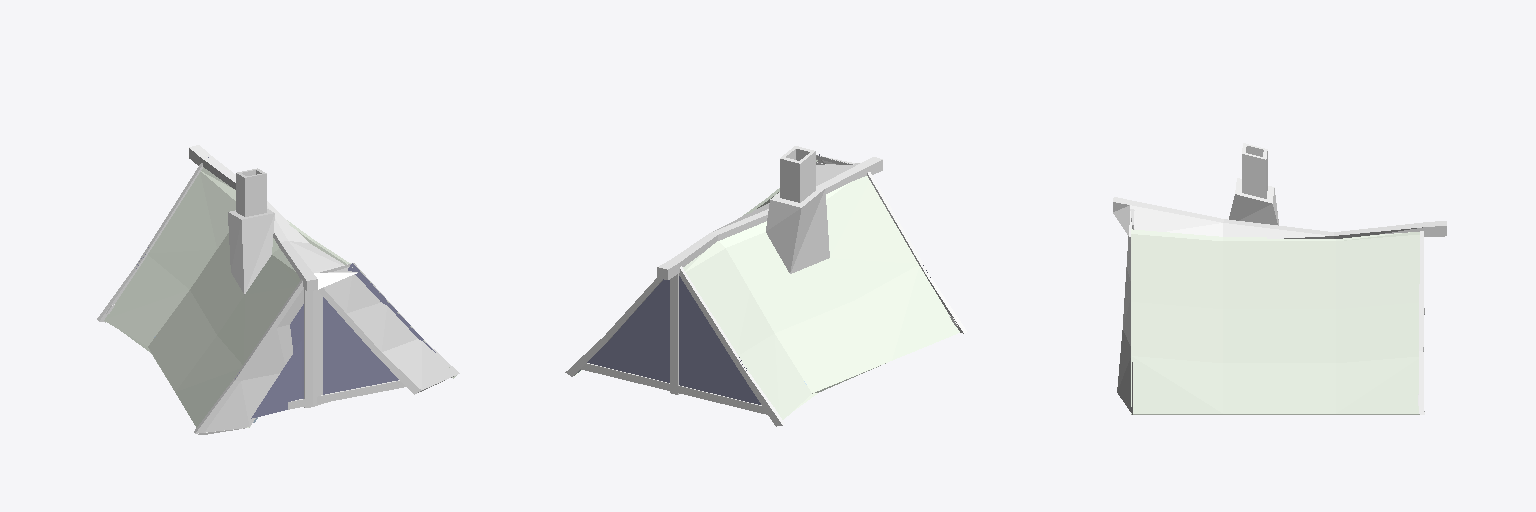
Rendered from Roof_LOD0.obj.
3 views of the same model, side by side, from view 1: azimuth 30°, elevation 25°; view 2: azimuth 150°, elevation 25°; view 3: azimuth 270°, elevation 25° (orthographic).
Parts seen in each view (by area): view 1: Roof_LOD0; view 2: Roof_LOD0; view 3: Roof_LOD0.
Part boxes in pixels (x1,y1,x2,y2): Roof_LOD0: (97,145,459,434); Roof_LOD0: (565,146,966,426); Roof_LOD0: (1113,143,1446,414).
Size of the model in its own units: 4.15 by 3 by 4.61.